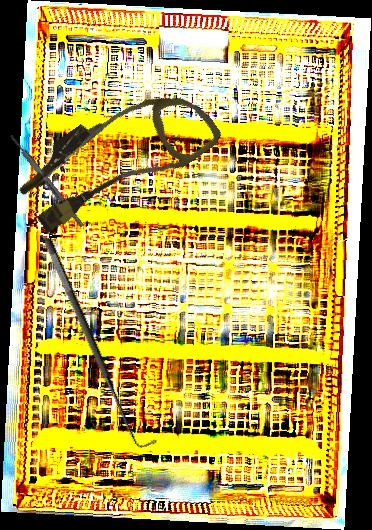Cannula: (7, 61, 225, 253)
Hook Surgical: (40, 230, 160, 457)
Scalpel Handle: (8, 133, 85, 229)
